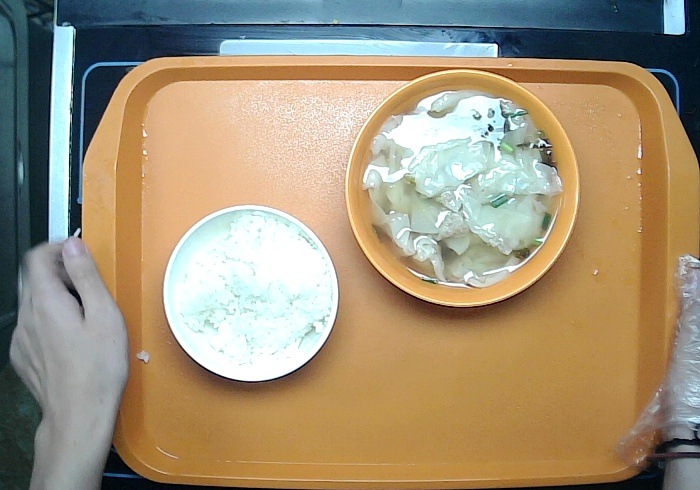NLDX-Fan_Wan: (160, 206, 338, 382)
NLDX-Hun_Tun_Wan: (344, 69, 580, 309)
